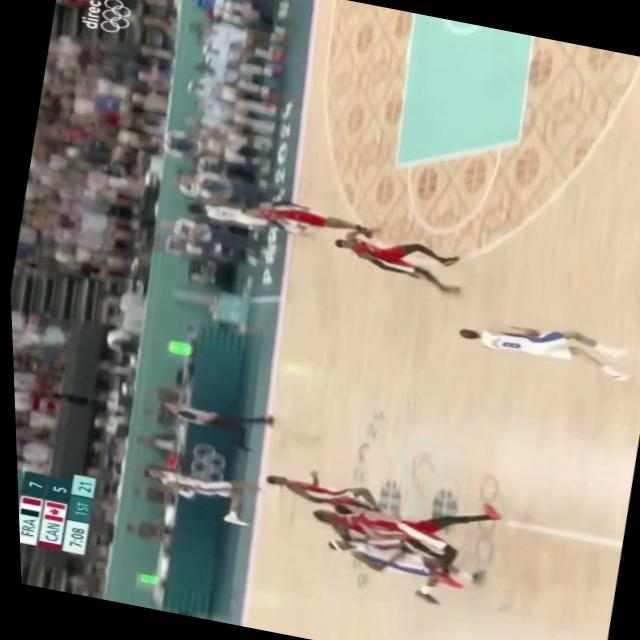ball_handler: (459, 328, 629, 381)
